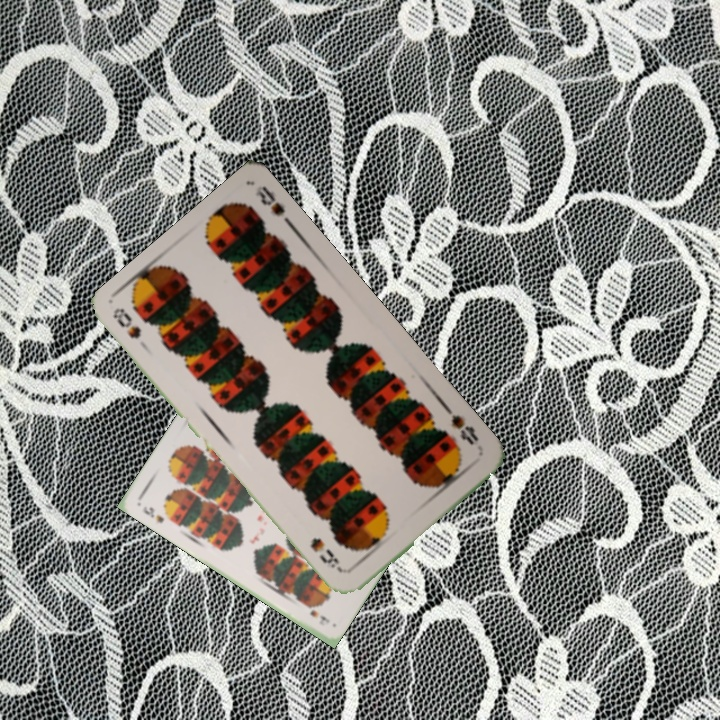S8: (442, 404, 482, 448), (109, 304, 144, 342)
S9: (139, 502, 167, 526)
